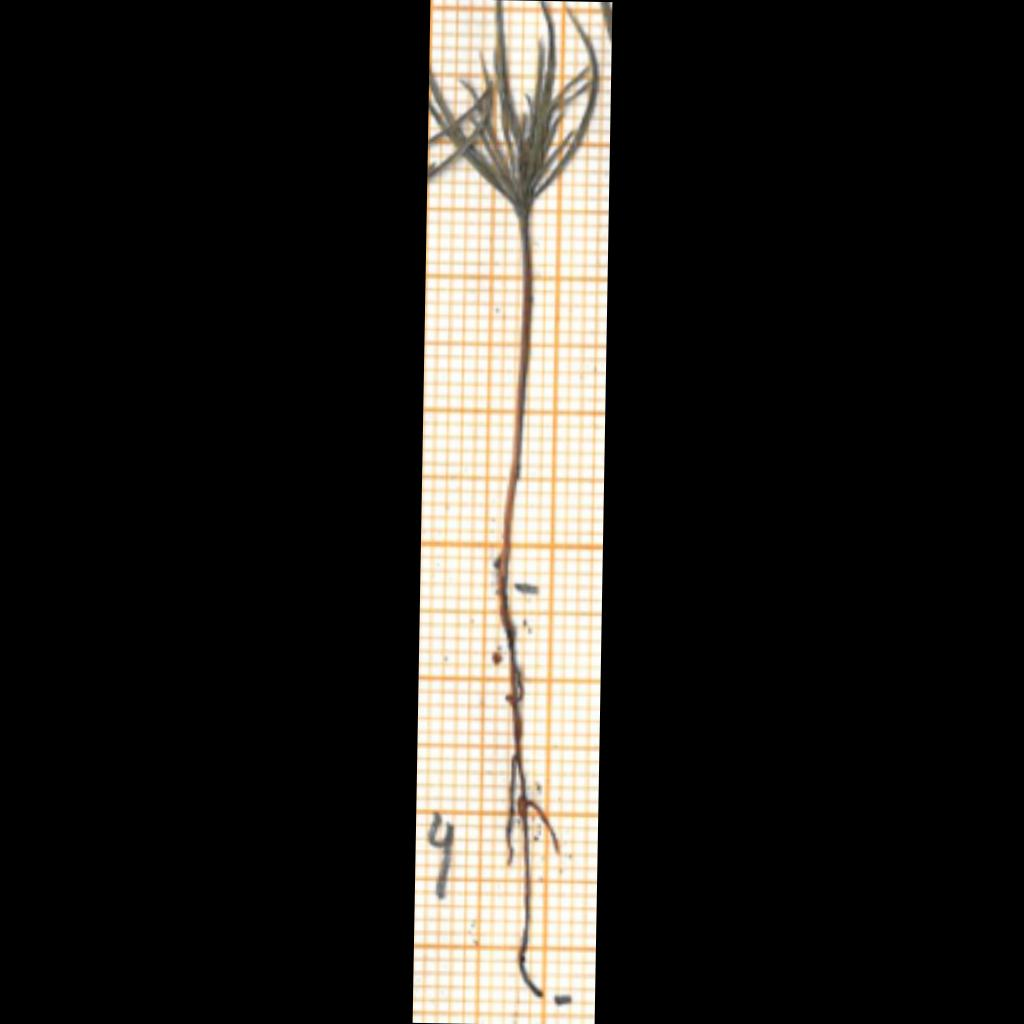flowerPinus: (429, 0, 596, 216)
rootPinus: (501, 586, 560, 998)
stemPinus: (501, 220, 532, 587)
